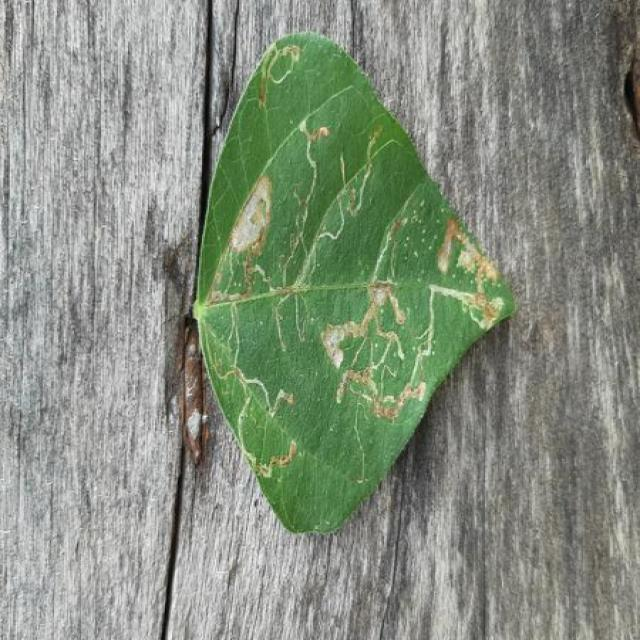beans: (195, 34, 515, 532)
defectedbeans: (198, 109, 515, 532)
